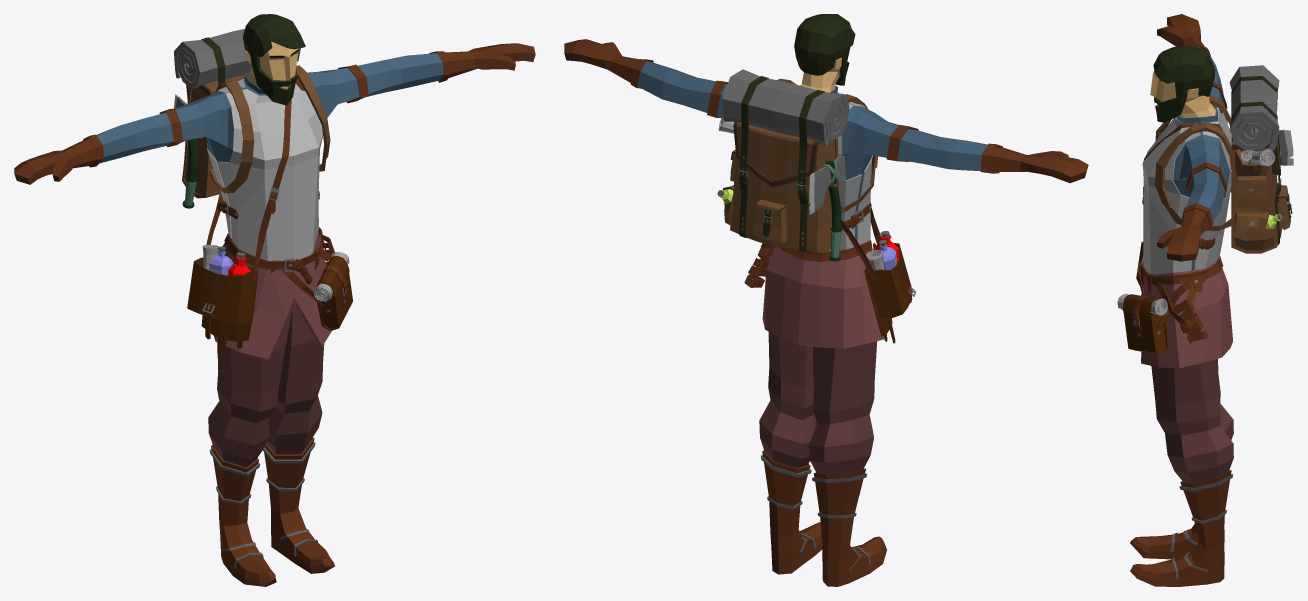
File: Maya karakter.fbx
3 renders of one model, left to right at view 1: azimuth 30°, elevation 25°; view 2: azimuth 150°, elevation 25°; view 3: azimuth 270°, elevation 25°, orthographic. The views are drawn at different scales.
Parts seen in each view (by area): view 1: MainMesh, Backpack.001, Shoulder bag, Hair/Beard, Belt bag, Belt; view 2: MainMesh, Backpack.001, Shoulder bag, Hair/Beard, Belt; view 3: MainMesh, Backpack.001, Hair/Beard, Belt bag, Belt, Shoulder bag.
Boxes of the visible parts, x1,y1,x2,y2 form: MainMesh: (14,41,535,586); Backpack.001: (174,29,330,208); Shoulder bag: (187,99,291,355); Hair/Beard: (243,14,305,105); Belt bag: (270,235,352,330); Belt: (224,227,334,284); MainMesh: (564,39,1088,586); Backpack.001: (717,69,877,261); Shoulder bag: (841,202,916,343); Hair/Beard: (794,14,855,85); Belt: (744,240,872,287); MainMesh: (1130,14,1233,586); Backpack.001: (1155,65,1293,253); Hair/Beard: (1153,45,1215,122); Belt bag: (1117,275,1205,354); Belt: (1137,256,1223,343); Shoulder bag: (1136,123,1231,287).
Bounding box in the file's own units: 177 × 178 × 54.61.
